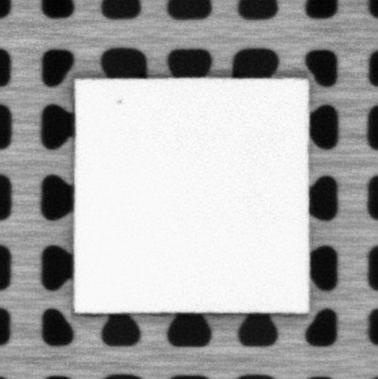DIE_INK: (114, 94, 125, 104)
